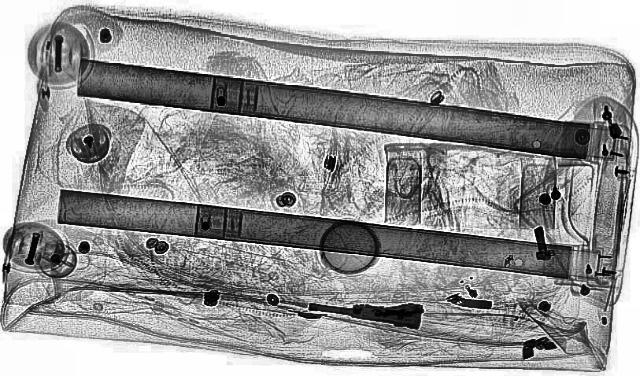Gun: (302, 294, 423, 330)
